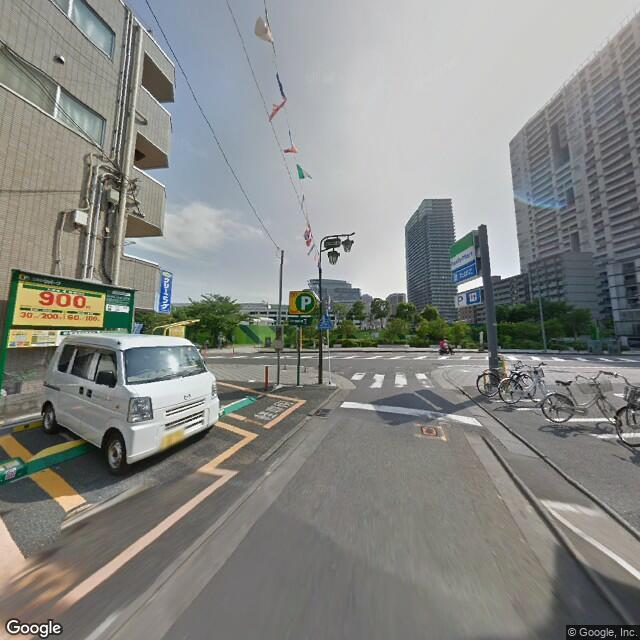family_mart: (448, 230, 479, 276)
